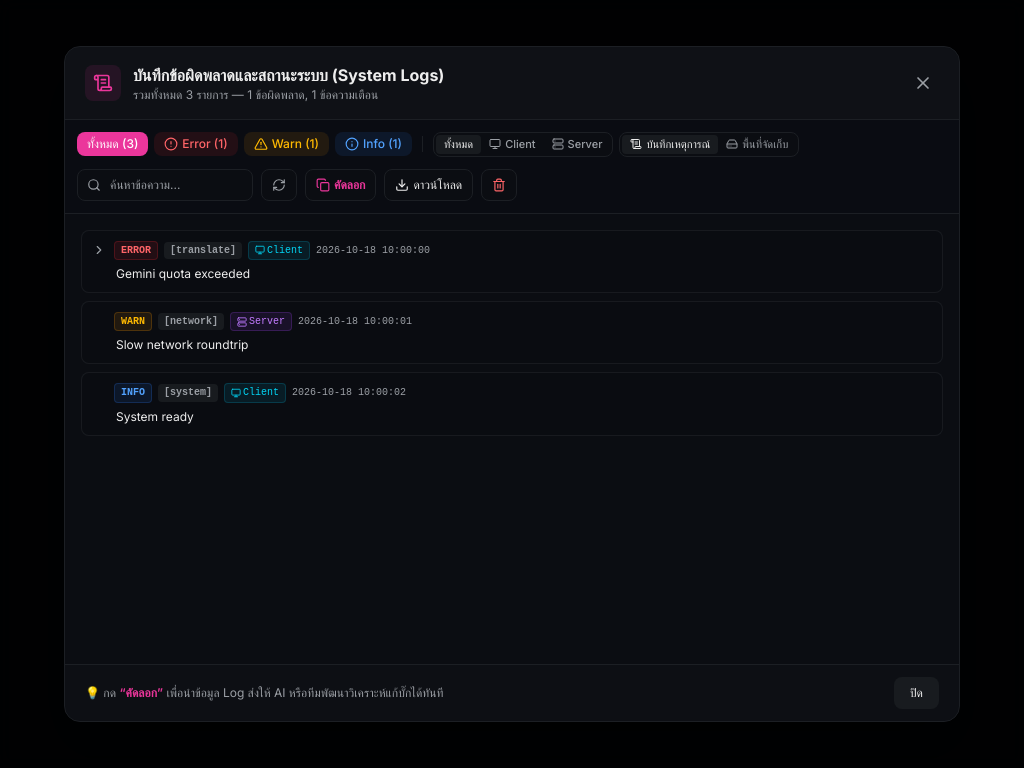
SystemLogsModal › filters by level when clicking level pills
// Click "Error" filter button
Click the button "Error (1)": (196, 144) [154,132,238,156]
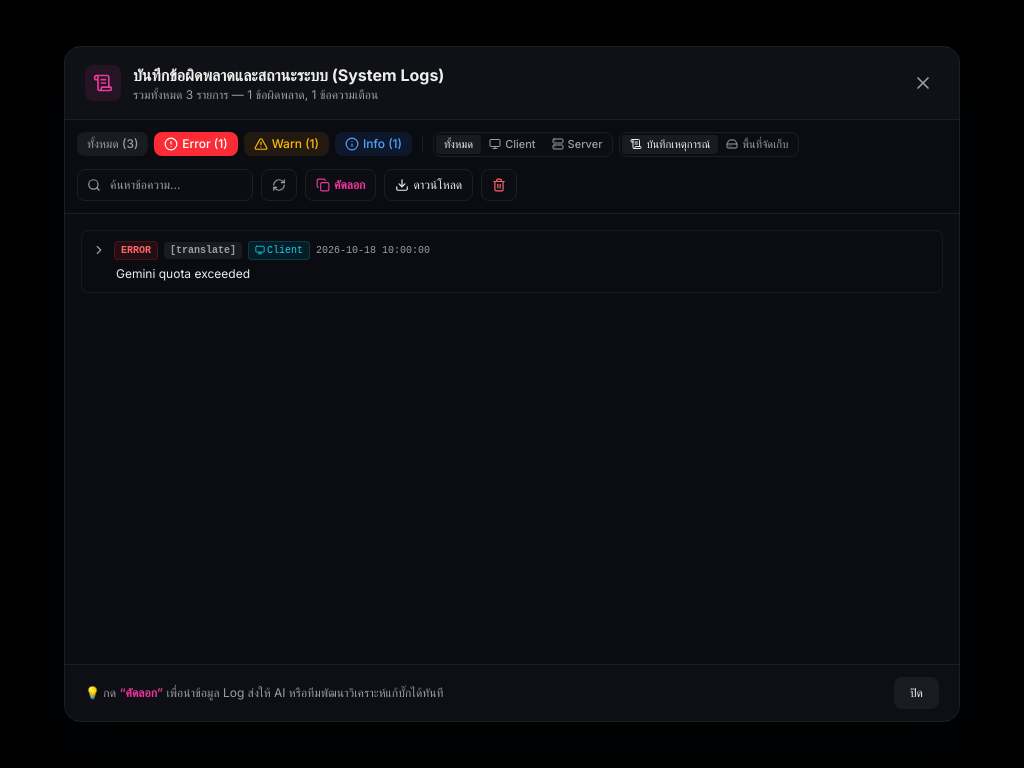
Expected: the text "Gemini quota exceeded" is shown, [116,266,250,281]
Expected: the text "Slow network roundtrip" is gone
Expected: the text "System ready" is gone
